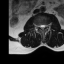CCS_normal: (41, 23, 43, 31)
LFS_normal: (46, 23, 47, 28)
LLS_normal: (43, 23, 45, 29)
RFS_normal: (37, 23, 39, 29)
RLS_normal: (39, 23, 41, 29)
